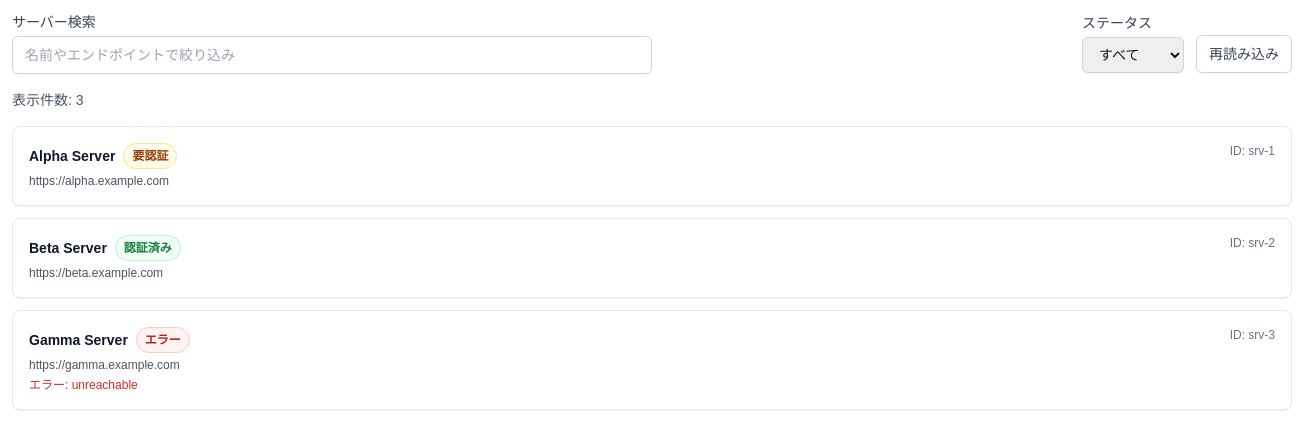
RemoteServerList › filters servers by search term
Type "gamma" into the field with test id "remote-search". click: point(332, 55)
box: [12,36,652,74]
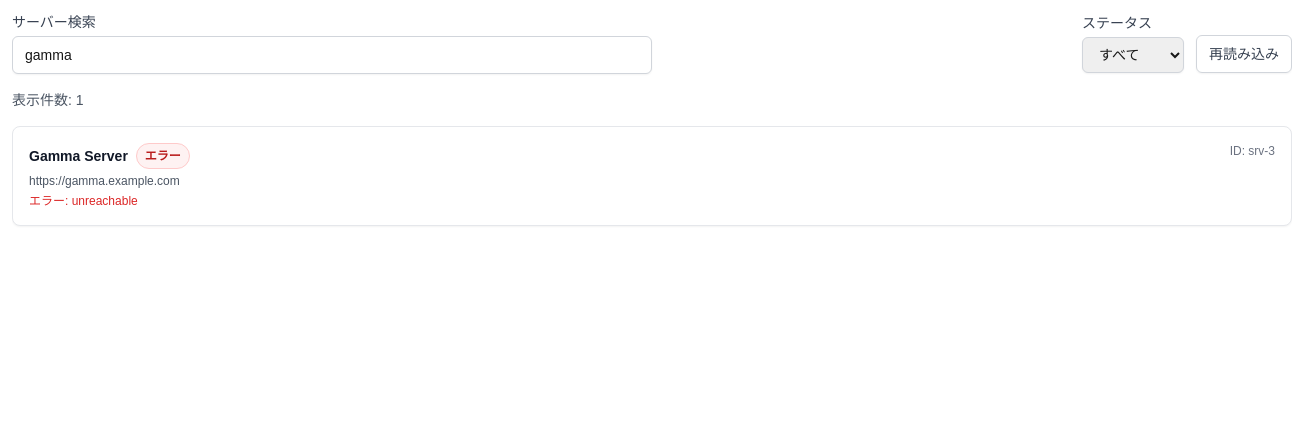
Expected: the text "Gamma Server" is shown, [29,146,128,166]
Now the text "Alpha Server" is gone
Now the text "Beta Server" is gone
